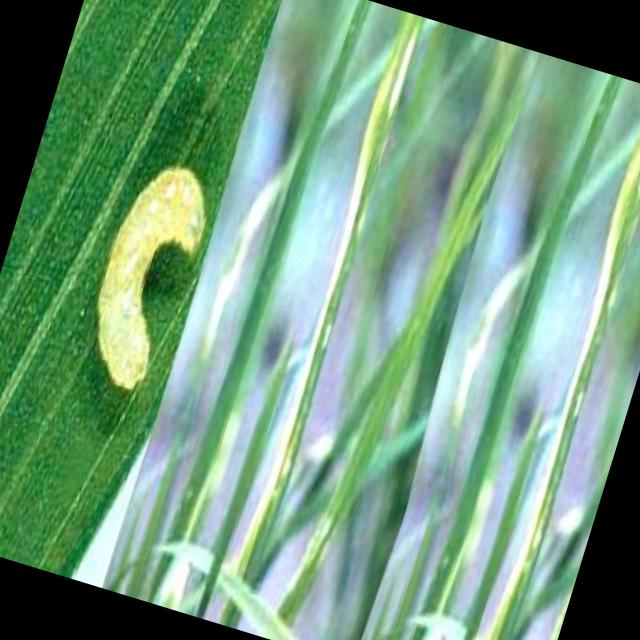whorl-maggot: (61, 148, 222, 418)
